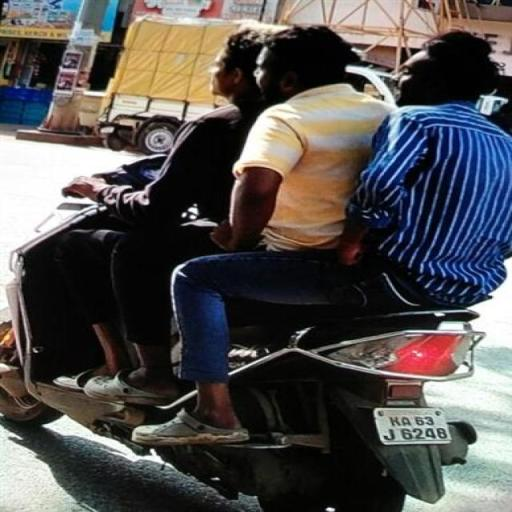tripple riding: (49, 20, 504, 258)
